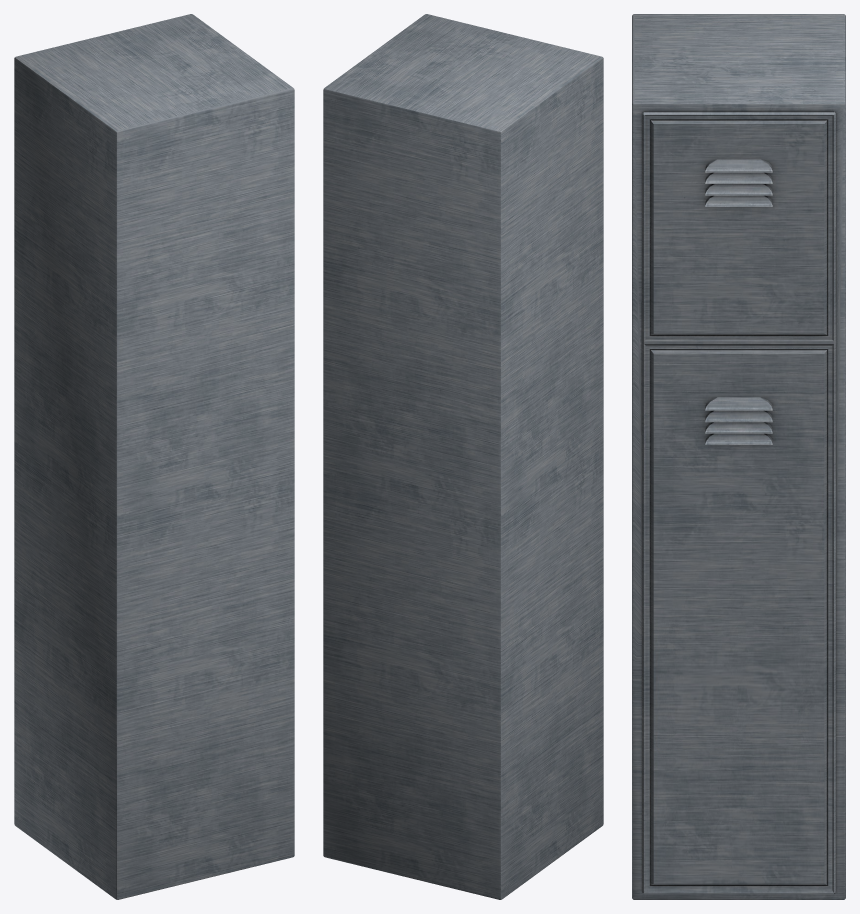
3 renders of one model, left to right at view 1: azimuth 30°, elevation 25°; view 2: azimuth 150°, elevation 25°; view 3: azimuth 270°, elevation 25°, orthographic. The views are drawn at different scales.
Visible parts, largest first — view 1: Spint_0; view 2: Spint_0; view 3: Spint_0.
Part boxes in pixels (x1,y1,x2,y2): Spint_0: (14, 14, 294, 899); Spint_0: (323, 14, 603, 899); Spint_0: (632, 14, 845, 899).
Size of the model in its own units: 0.594 by 2.3 by 0.5584.
Materials: 1 (1 with a texture image).
